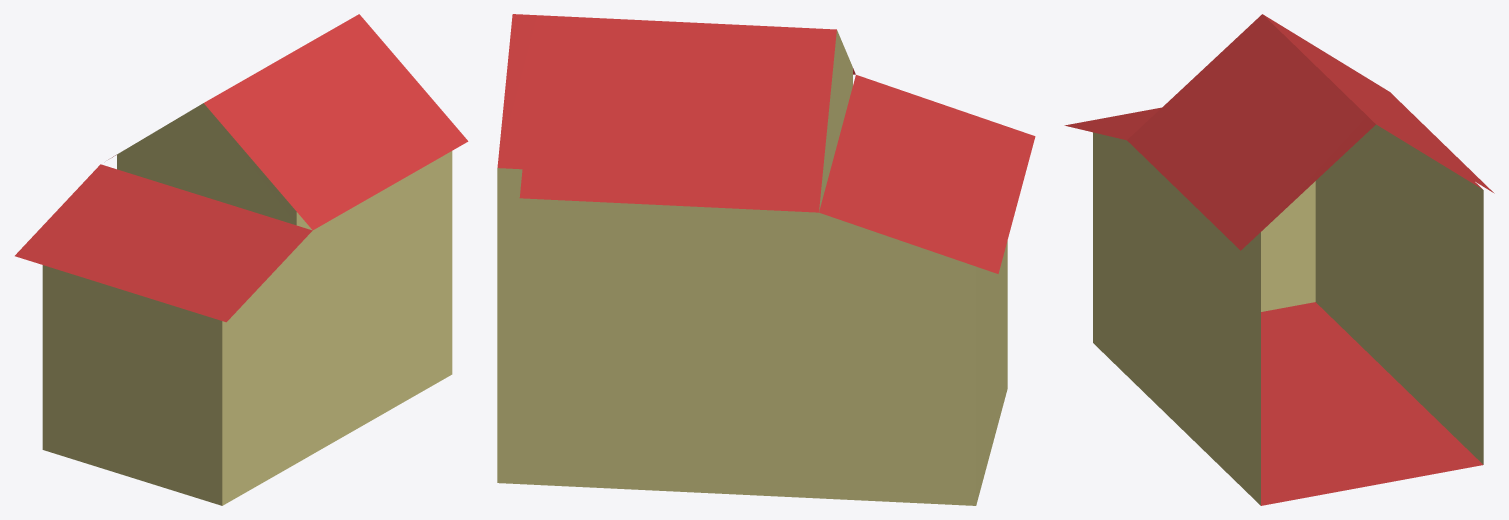
3 renders of one model, left to right at view 1: azimuth 30°, elevation 25°; view 2: azimuth 150°, elevation 25°; view 3: azimuth 270°, elevation 25°, orthographic. The views are drawn at different scales.
Bounding box in the file's own units: 11.8 × 9.77 × 9.02.
